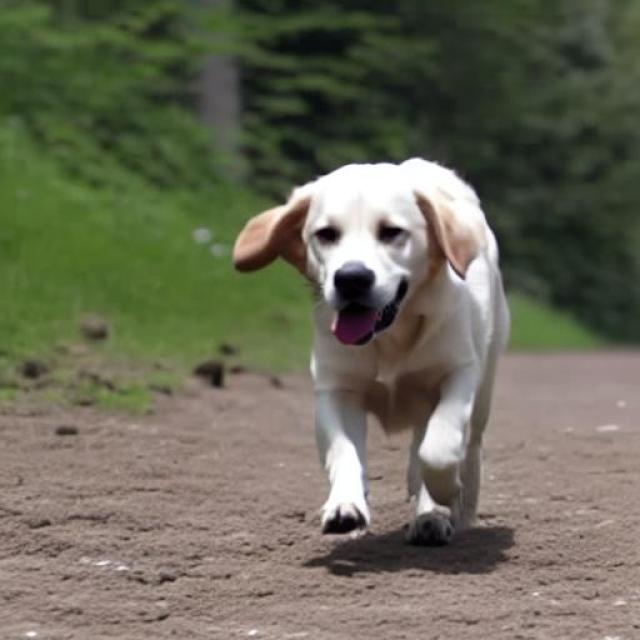Dog: (231, 156, 511, 545)
